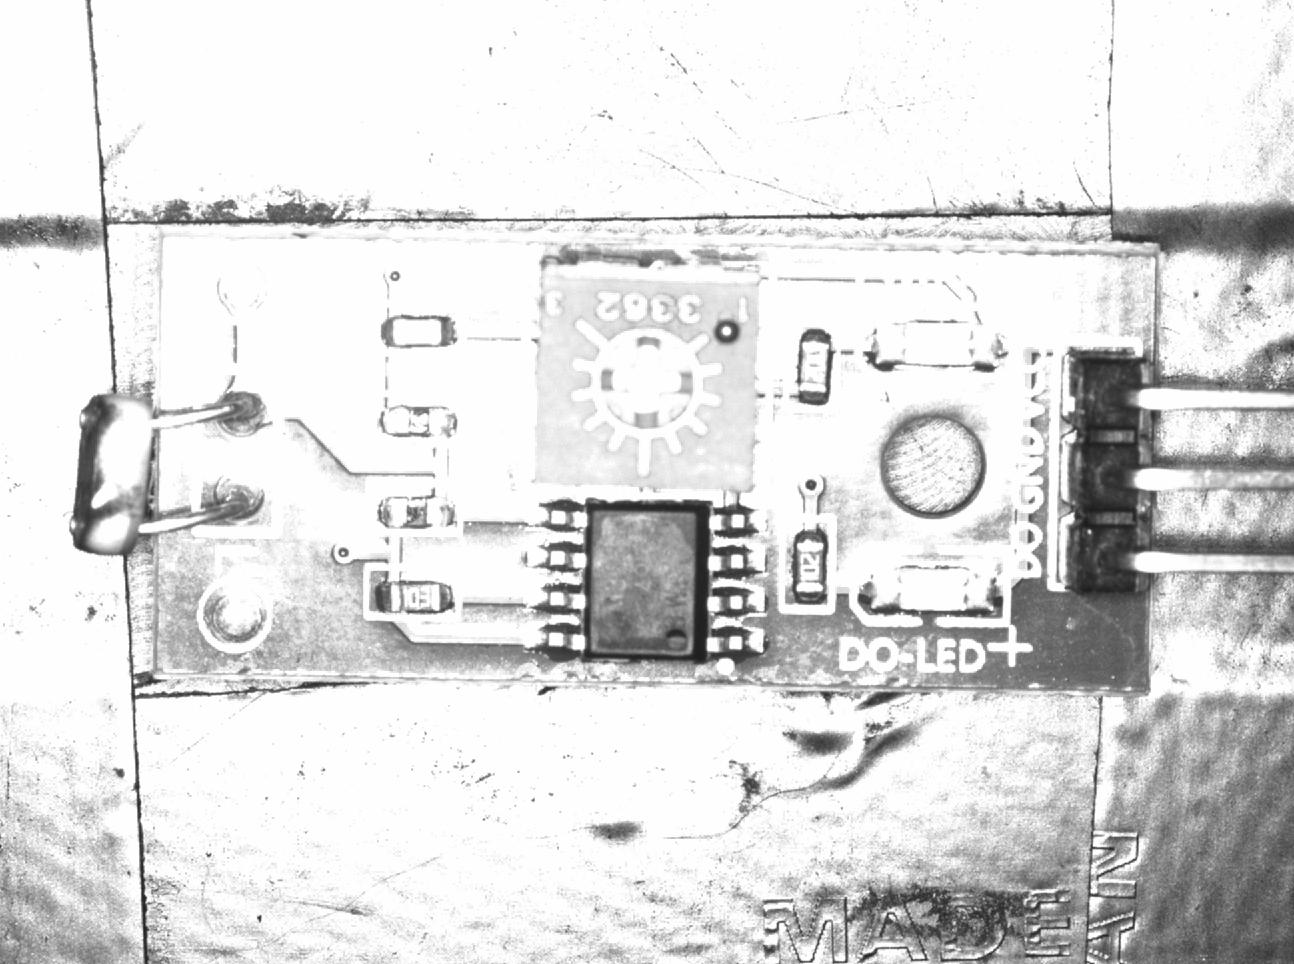miss: (365, 481, 465, 540), (379, 396, 465, 441)
ok: (780, 511, 838, 613), (369, 563, 460, 625), (369, 304, 468, 360), (786, 321, 835, 416)
